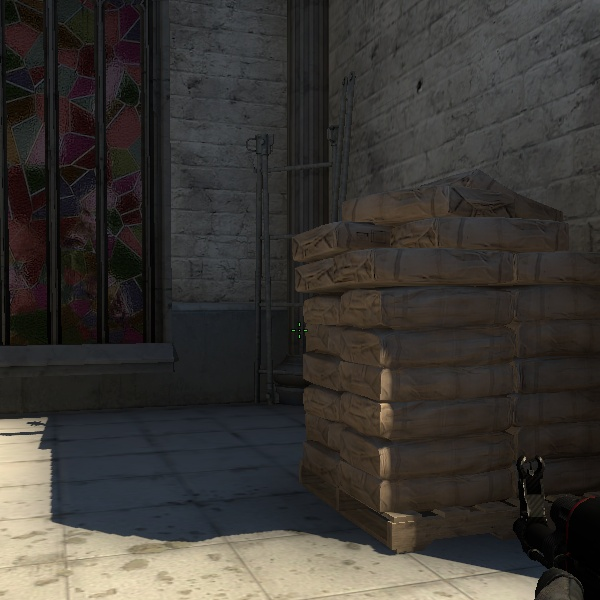t_body: (0, 0, 177, 376)
